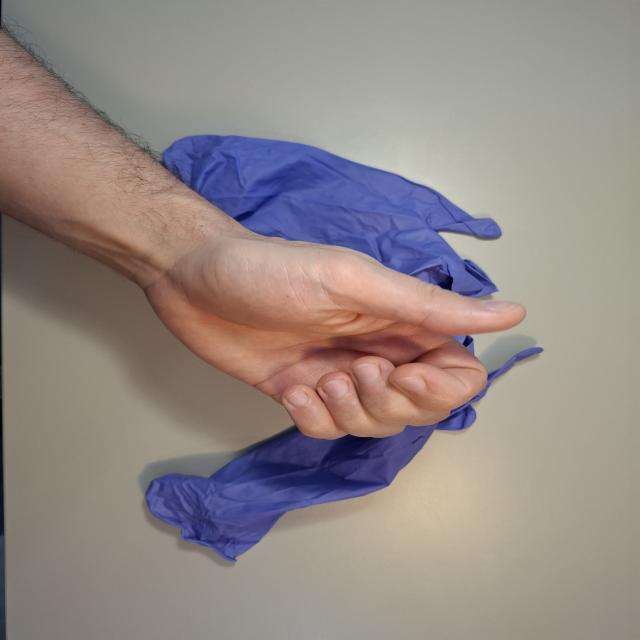glove_off: (129, 216, 529, 444)
